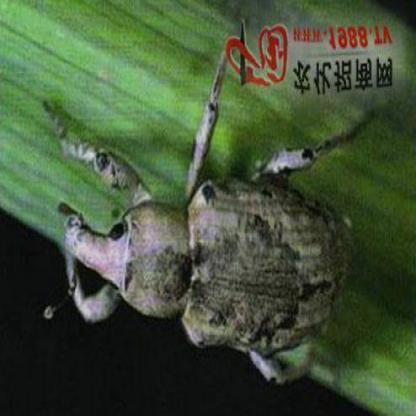rice-bug: (63, 138, 354, 349)
